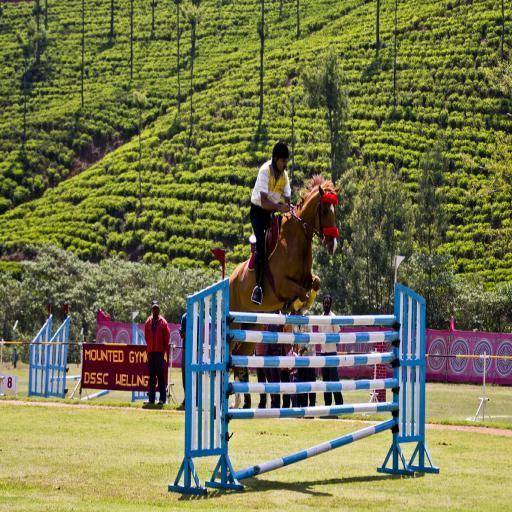horse: (208, 172, 338, 384)
